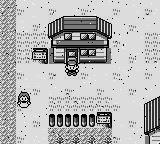leer: (96, 111, 111, 128), (33, 48, 48, 64)
main: (65, 61, 79, 76)
no-caminable: (49, 16, 112, 63), (144, 97, 159, 143), (48, 113, 96, 127)
npc: (17, 92, 31, 108)
puerta: (66, 49, 78, 64)
